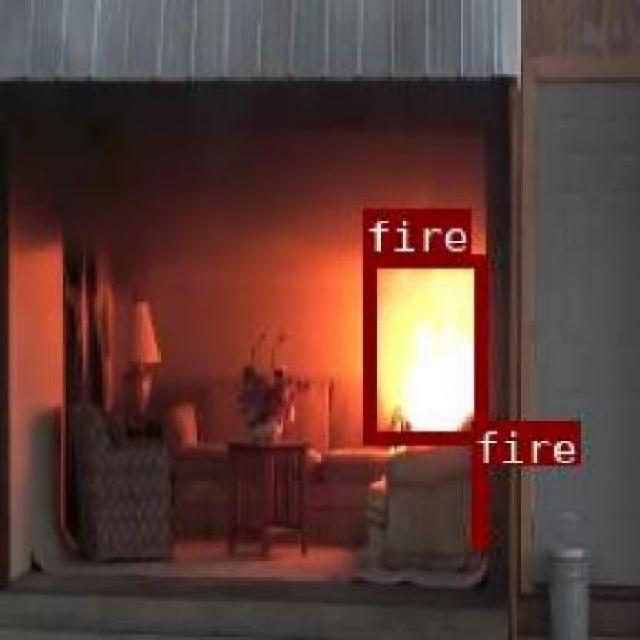Fire: (360, 252, 486, 442)
